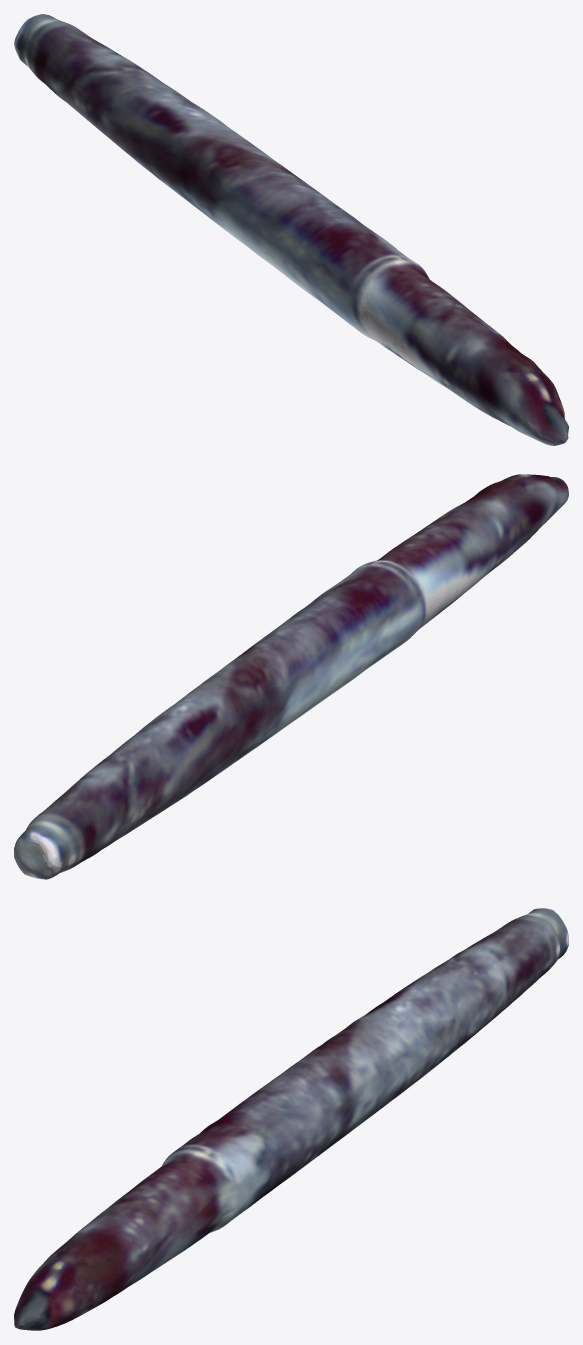
The model's file is scan_align.obj.
3 renders of one model, top to bottom at view 1: azimuth 30°, elevation 25°; view 2: azimuth 150°, elevation 25°; view 3: azimuth 330°, elevation 25°, orthographic.
Bounding box in the file's own units: 0.00989 × 0.00994 × 0.1189.
1 material, 1 textured.
